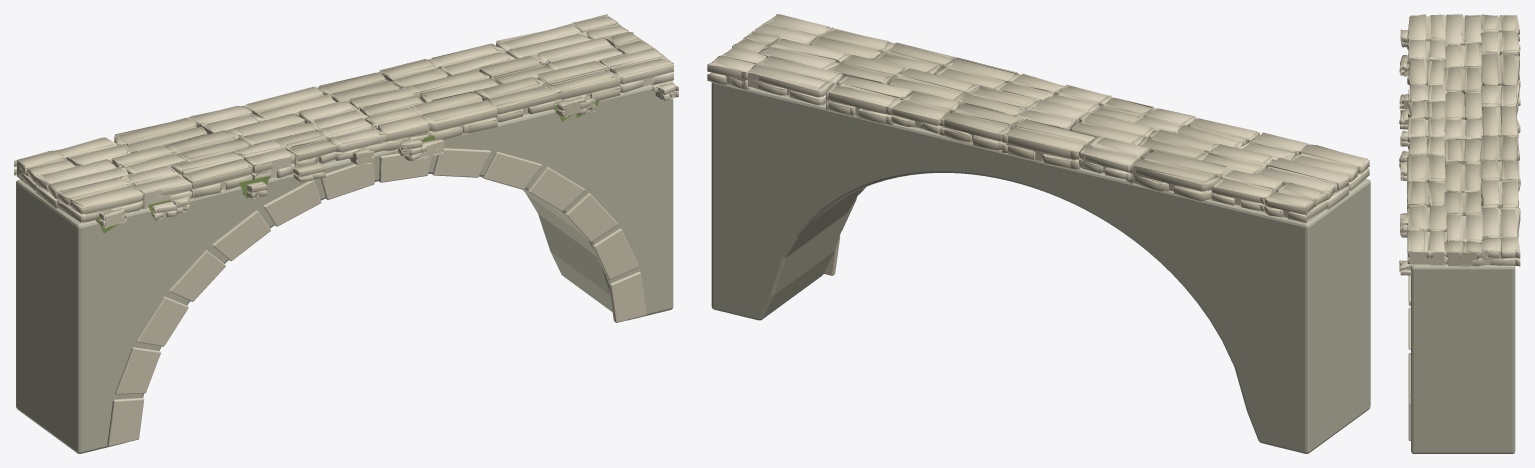
The model's file is bridge-12.glb.
3 views of the same model, side by side, from view 1: azimuth 30°, elevation 25°; view 2: azimuth 150°, elevation 25°; view 3: azimuth 270°, elevation 25° (orthographic). The views are drawn at different scales.
Parts seen in each view (by area): view 1: Continuous arch foundation.011, CC0 worn paving.249, CC0 worn paving.242, CC0 worn paving.251, CC0 worn paving.244, CC0 worn paving.250, CC0 worn paving.252, CC0 worn paving.253, CC0 worn paving.265, CC0 worn paving.243, CC0 worn paving.247, CC0 worn paving.271 (+33 smaller); view 2: Continuous arch foundation.011, CC0 worn paving.265, CC0 worn paving.267, CC0 worn paving.271, CC0 worn paving.270, CC0 worn paving.268, CC0 worn paving.253, CC0 worn paving.266, CC0 worn paving.264, CC0 worn paving.263, CC0 worn paving.269, CC0 worn paving.242 (+19 smaller); view 3: Continuous arch foundation.011, CC0 worn paving.252, CC0 worn paving.265, CC0 worn paving.271, CC0 worn paving.272, CC0 worn paving.253, CC0 worn paving.267, CC0 worn paving.259, CC0 worn paving.270, CC0 worn paving.249, CC0 worn paving.256, CC0 worn paving.251 (+23 smaller).
Boxes of the visible parts, x1,y1,x2,y2 form: Continuous arch foundation.011: [16, 80, 673, 453]; CC0 worn paving.249: [409, 92, 497, 139]; CC0 worn paving.242: [58, 177, 143, 222]; CC0 worn paving.251: [537, 61, 620, 110]; CC0 worn paving.244: [171, 150, 252, 198]; CC0 worn paving.250: [474, 77, 555, 122]; CC0 worn paving.252: [599, 47, 673, 92]; CC0 worn paving.253: [35, 159, 128, 209]; CC0 worn paving.265: [114, 117, 207, 152]; CC0 worn paving.243: [120, 164, 192, 209]; CC0 worn paving.247: [316, 118, 386, 160]; CC0 worn paving.271: [496, 24, 591, 58]; Continuous arch foundation.011: [711, 82, 1370, 453]; CC0 worn paving.265: [1126, 150, 1232, 201]; CC0 worn paving.267: [1002, 119, 1095, 169]; CC0 worn paving.271: [747, 56, 842, 105]; CC0 worn paving.270: [826, 75, 912, 125]; CC0 worn paving.268: [939, 103, 1023, 150]; CC0 worn paving.253: [1257, 157, 1348, 209]; CC0 worn paving.266: [1079, 136, 1149, 180]; CC0 worn paving.264: [1211, 169, 1282, 211]; CC0 worn paving.263: [1263, 182, 1329, 222]; CC0 worn paving.269: [891, 91, 959, 133]; CC0 worn paving.242: [1290, 144, 1369, 190]; Continuous arch foundation.011: [1411, 198, 1515, 453]; CC0 worn paving.252: [1407, 230, 1447, 265]; CC0 worn paving.265: [1481, 52, 1520, 87]; CC0 worn paving.271: [1480, 207, 1520, 240]; CC0 worn paving.272: [1481, 237, 1520, 266]; CC0 worn paving.253: [1445, 14, 1482, 45]; CC0 worn paving.267: [1482, 106, 1520, 137]; CC0 worn paving.259: [1445, 161, 1481, 197]; CC0 worn paving.270: [1481, 179, 1518, 208]; CC0 worn paving.249: [1407, 154, 1445, 182]; CC0 worn paving.256: [1445, 90, 1482, 122]; CC0 worn paving.251: [1407, 204, 1446, 235].
Size of the model in its own units: 12 by 4.78 by 2.58.
